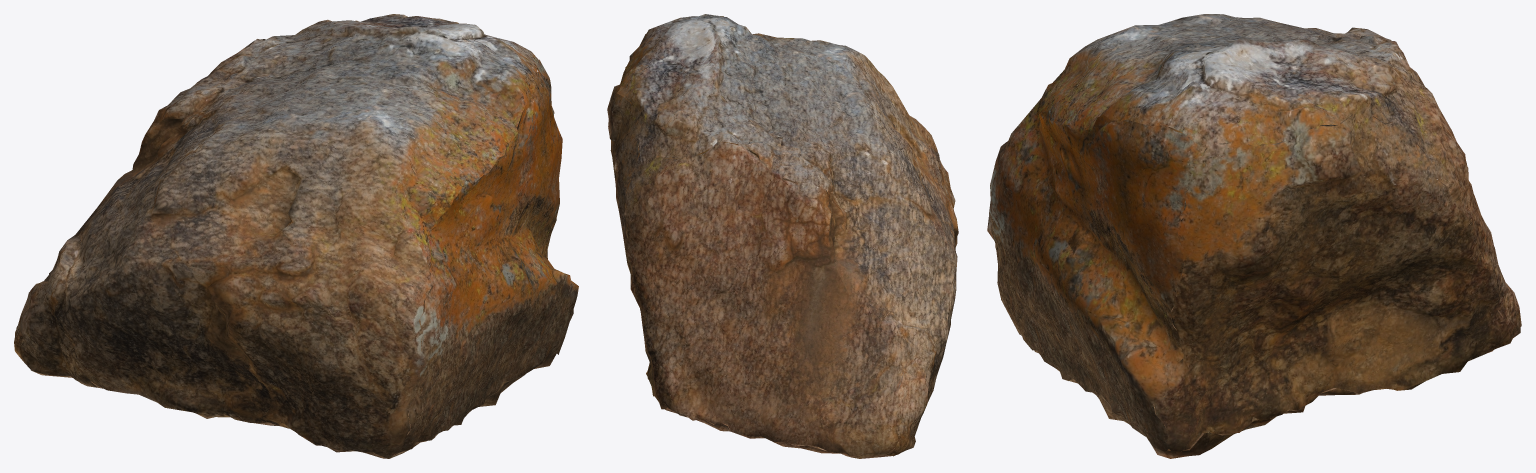
The model's file is namaqualand_boulder_04.glb.
The picture shows the model from 3 angles, left to right: view 1: azimuth 30°, elevation 25°; view 2: azimuth 150°, elevation 25°; view 3: azimuth 270°, elevation 25°; orthographic projection. The views are drawn at different scales.
Parts seen in each view (by area): view 1: boulder_04; view 2: boulder_04; view 3: boulder_04.
Part boxes in pixels (x1=…): boulder_04: x1=14, y1=14, x2=578, y2=458; boulder_04: x1=607, y1=14, x2=958, y2=458; boulder_04: x1=987, y1=14, x2=1521, y2=458.
Size of the model in its own units: 2.52 by 1.9 by 2.5.
1 material, 1 textured.
